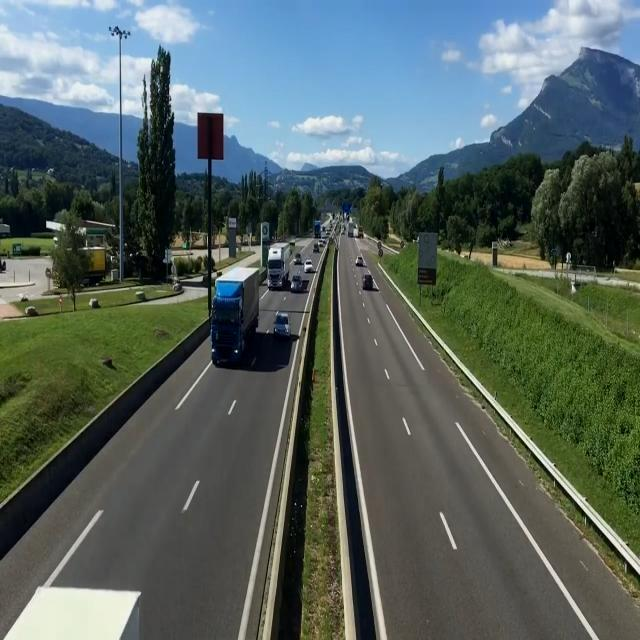Car: (273, 314, 292, 338), (291, 274, 303, 290), (363, 273, 374, 290), (304, 260, 314, 273), (293, 252, 302, 265), (355, 256, 364, 265)
Truck: (0, 580, 146, 640), (210, 266, 260, 365), (266, 242, 290, 292)
